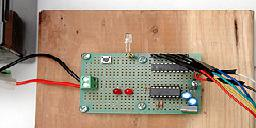LED: (111, 85, 123, 98), (124, 86, 133, 95)
